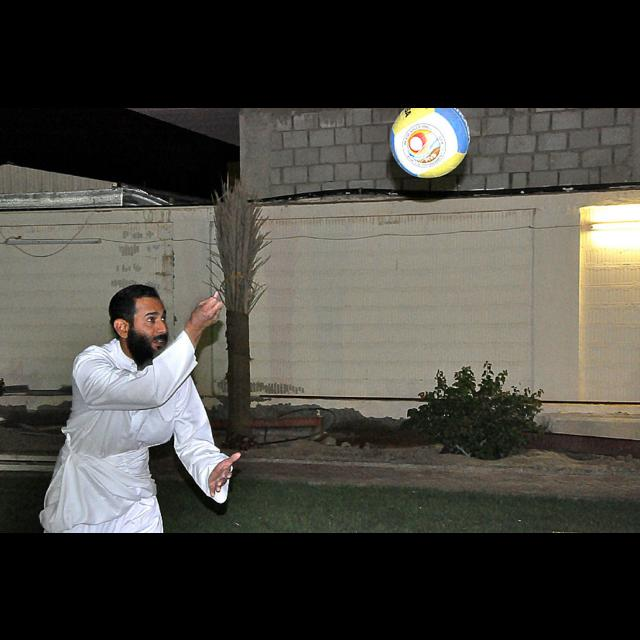Football: (388, 108, 468, 176)
